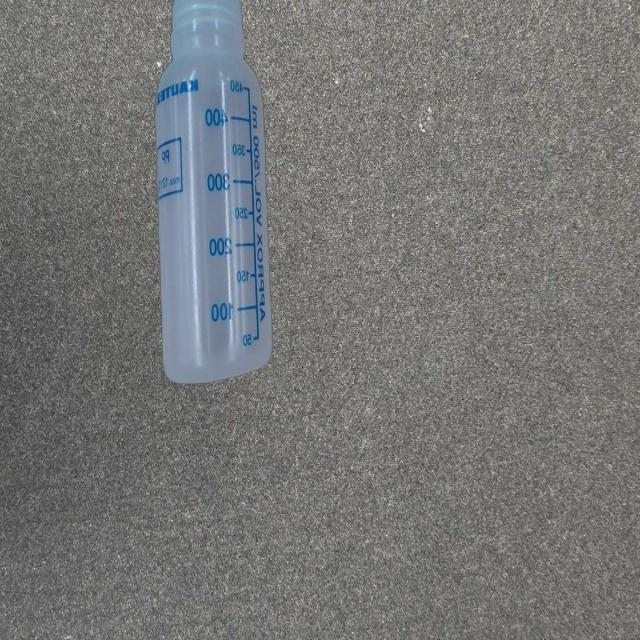bottle: (151, 0, 277, 387)
